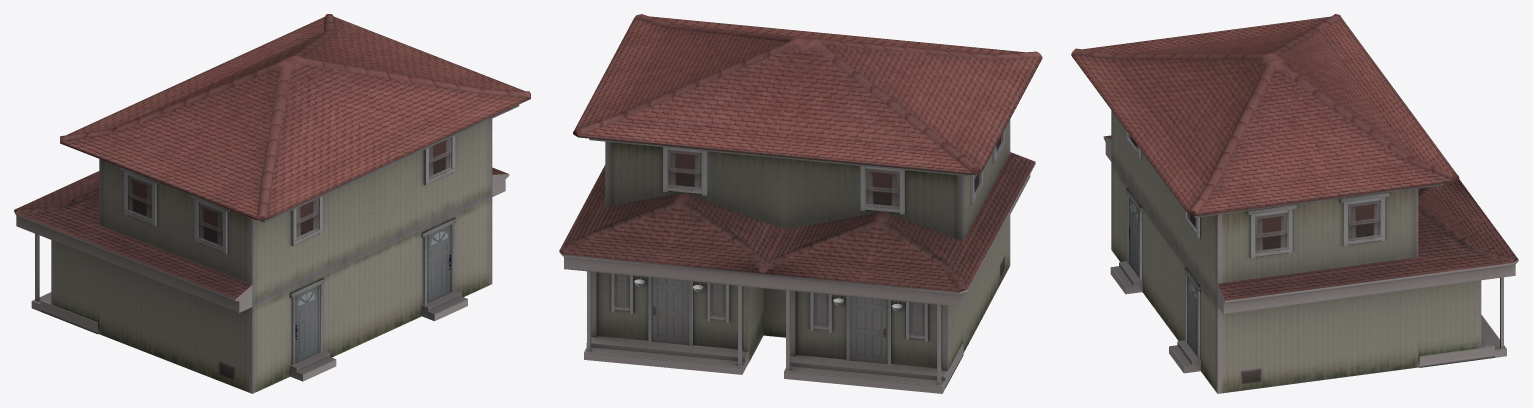
File: house.fbx
3 renders of one model, left to right at view 1: azimuth 30°, elevation 25°; view 2: azimuth 150°, elevation 25°; view 3: azimuth 270°, elevation 25°, orthographic. The views are drawn at different scales.
Visible parts, largest first — view 1: City_building_037; view 2: City_building_037; view 3: City_building_037.
Part boxes in pixels (x1,y1,x2,y2): City_building_037: (14, 14, 530, 393); City_building_037: (559, 14, 1042, 393); City_building_037: (1071, 14, 1518, 393).
Size of the model in its own units: 233 by 132 by 214.
1 material, 1 textured.
